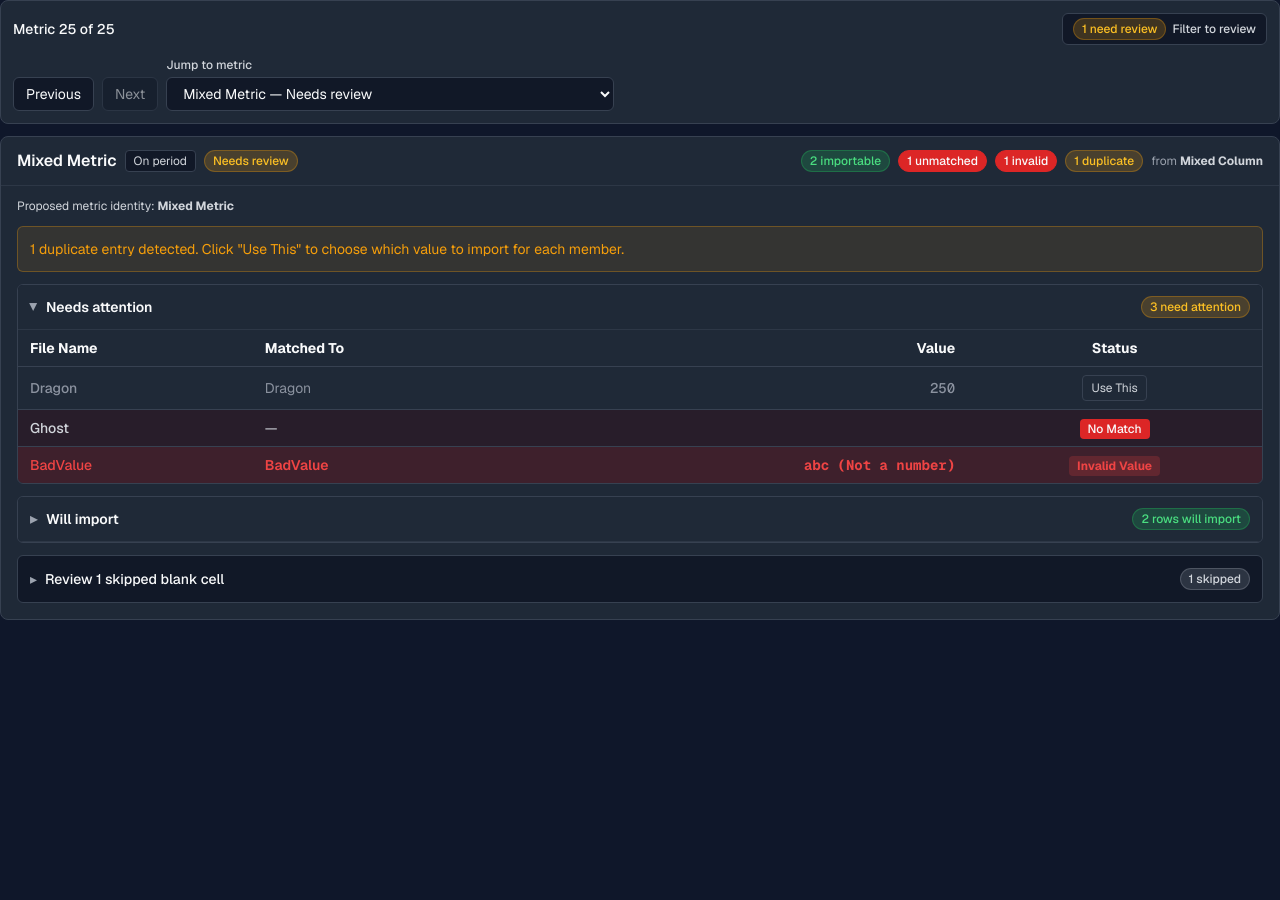
Test: MetricPreviewAccordion [component] › groups active metric rows by outcome with accurate counts and no overlap
Expected: the element with test id "metric-preview-navigator" is shown, [0,0,1279,124]
Select "Mixed Metric — Needs review" in the dropdown with test id "metric-preview-jump". click: (390, 94)
box: [166,77,614,111]
Expected: the element with test id "metric-preview-needs-attention" shows "3 need attention", [1150,299,1241,315]
Expected: the element with test id "metric-preview-will-import" shows "2 rows will import", [1141,511,1241,527]
Click the heading "▸ Will import 2 rows will import". click: (82, 519)
box: [18,497,1262,542]
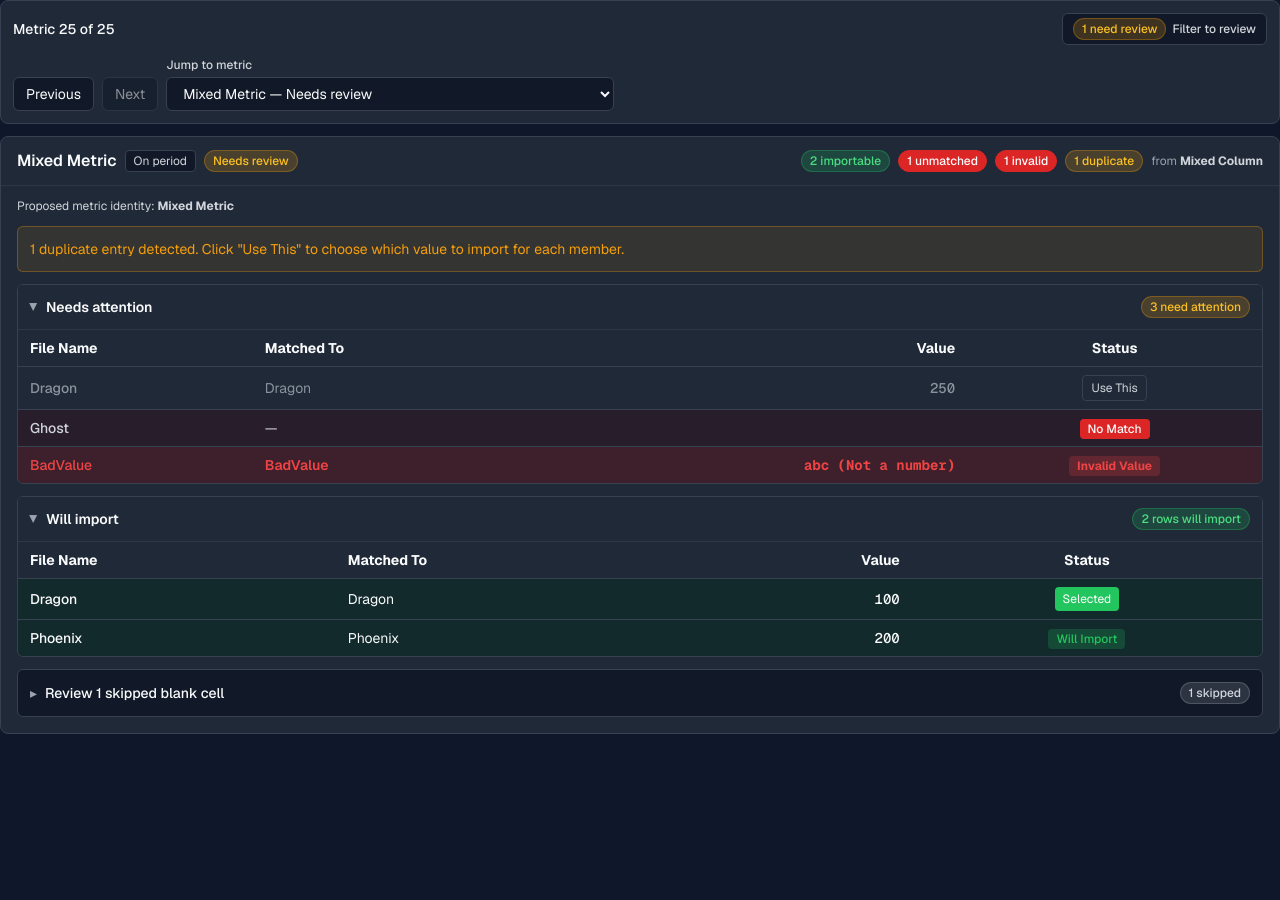
Now the row with test id "metric-preview-row-5-0" is shown, box [18,578,1262,620]
Now the row with test id "metric-preview-row-5-2" is shown, box [18,620,1262,656]
